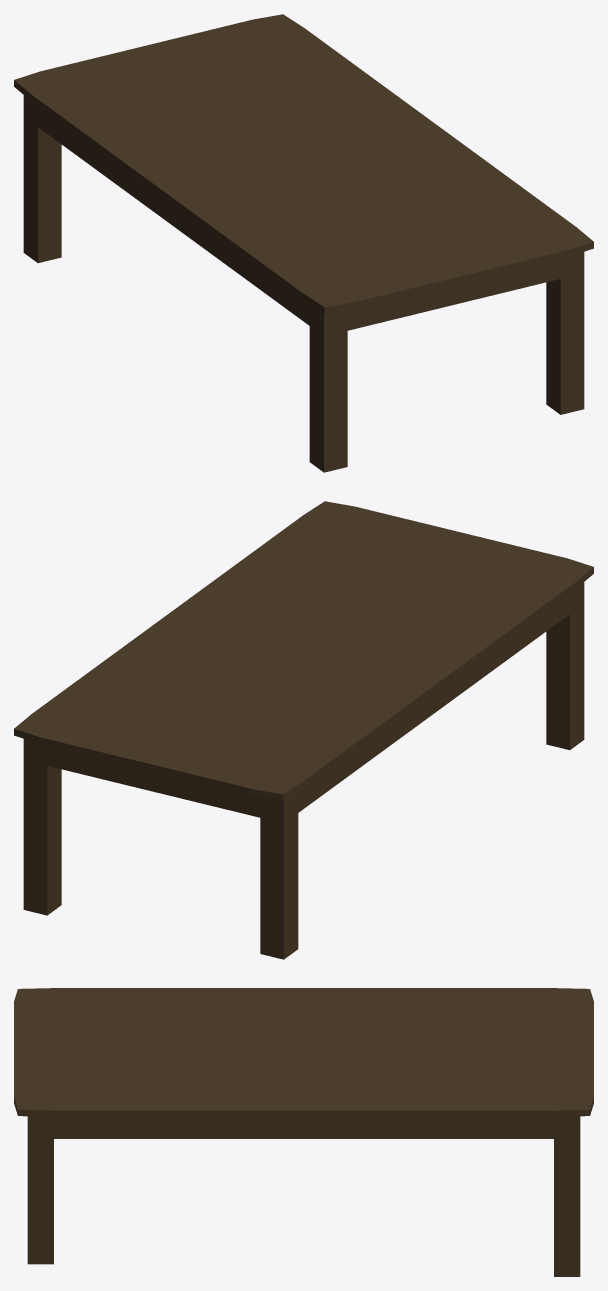
The model's file is tubetable.fbx.
3 views of the same model, one above another, from view 1: azimuth 30°, elevation 25°; view 2: azimuth 150°, elevation 25°; view 3: azimuth 270°, elevation 25° (orthographic). The views are drawn at different scales.
Parts seen in each view (by area): view 1: Cube; view 2: Cube; view 3: Cube.
Part boxes in pixels (x1,y1,x2,y2): Cube: (14,14,593,472); Cube: (14,501,593,959); Cube: (14,988,593,1276).
Bounding box in the file's own units: 210 × 135 × 420.
